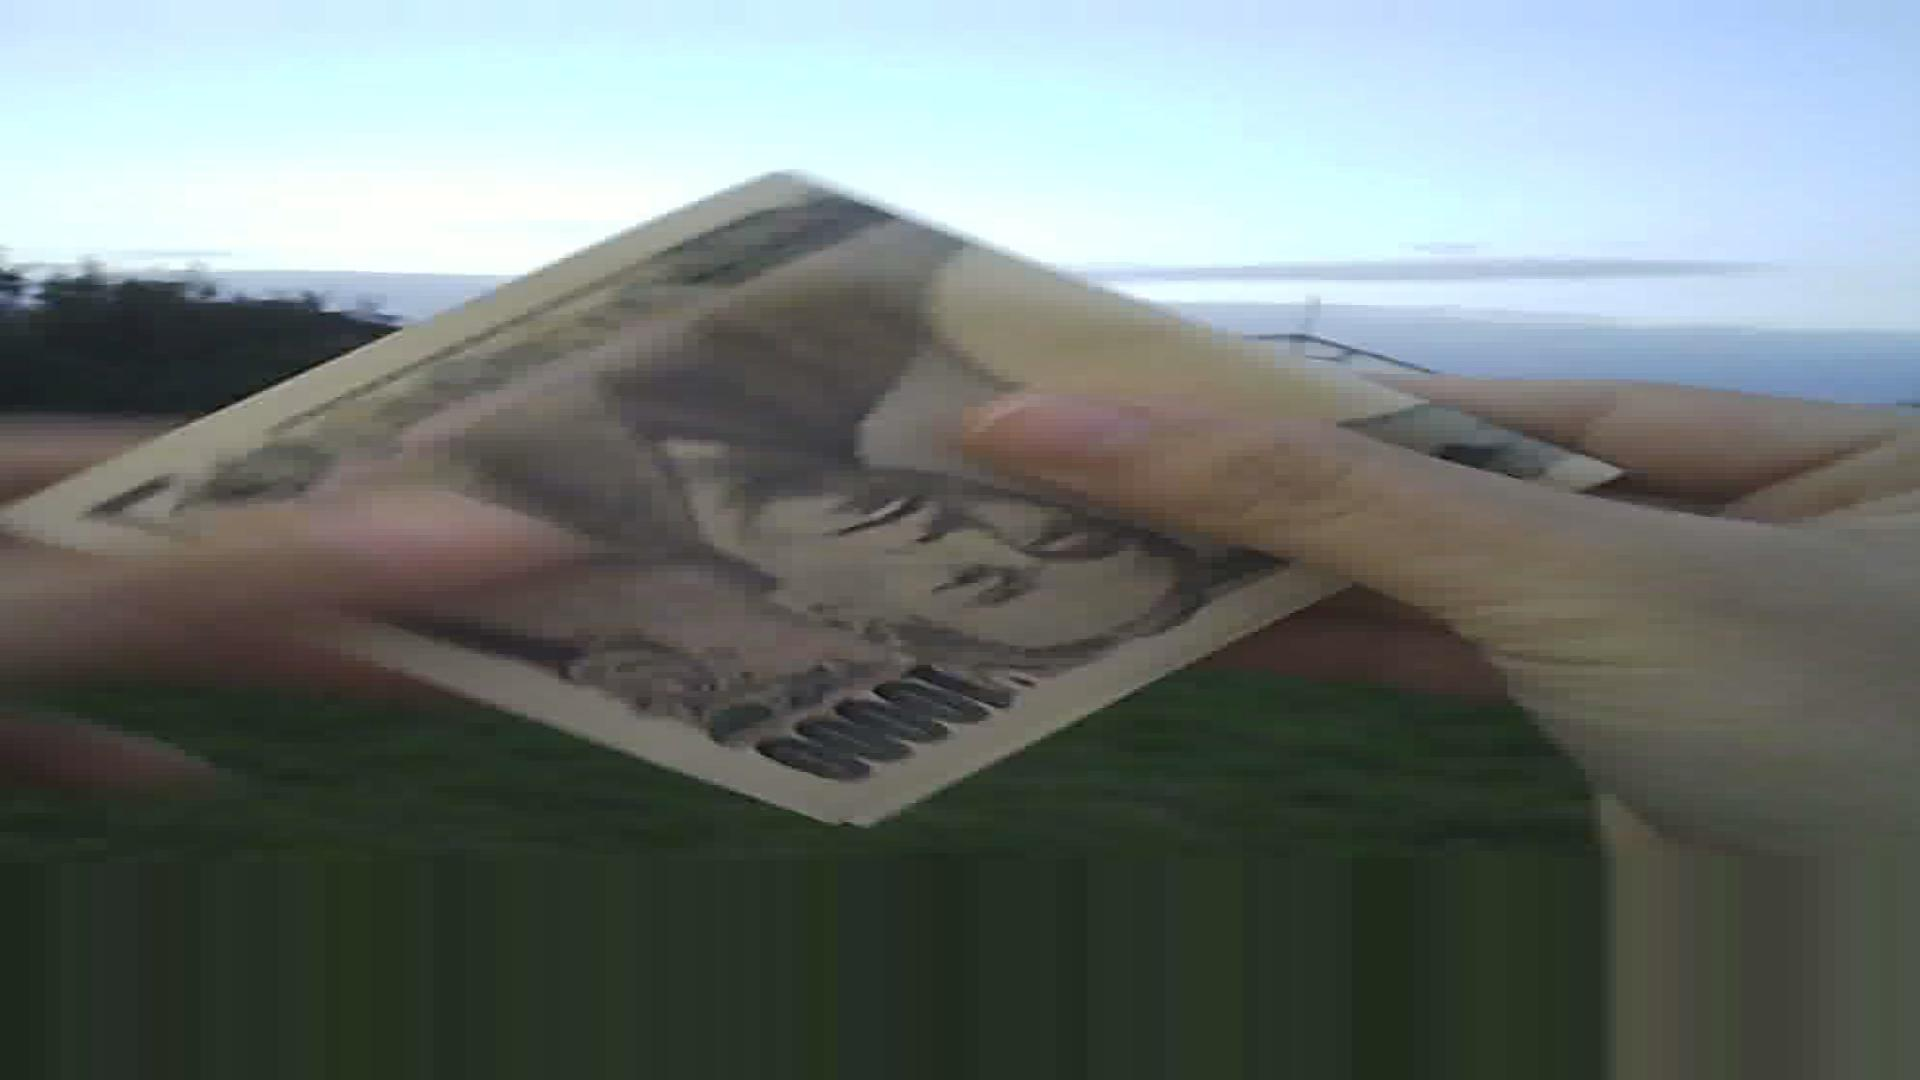10,000 Yen: (92, 116, 1607, 880)
